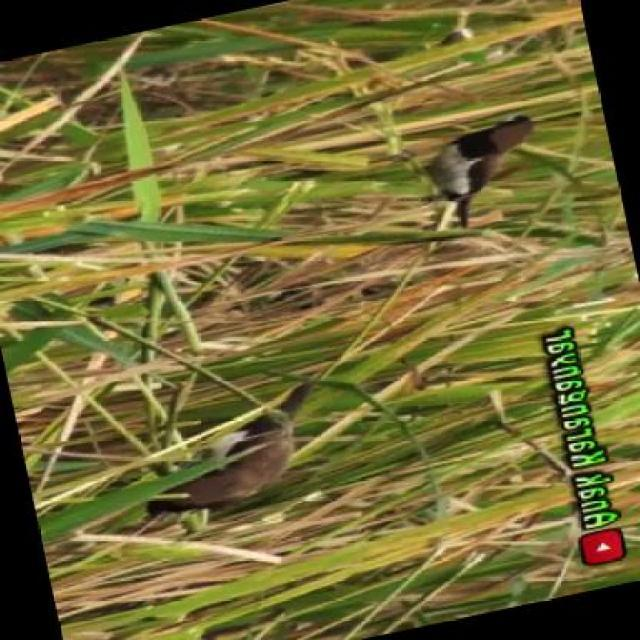Bird: (146, 359, 334, 527), (416, 103, 539, 251)
